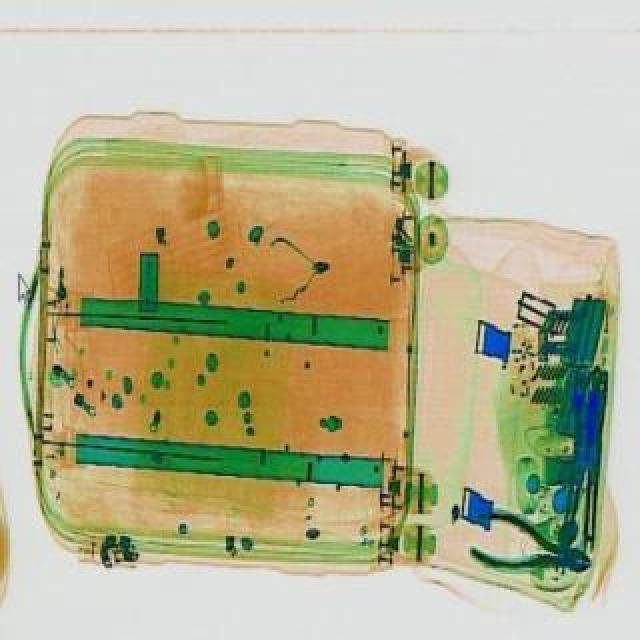wrench: (460, 500, 600, 592)
